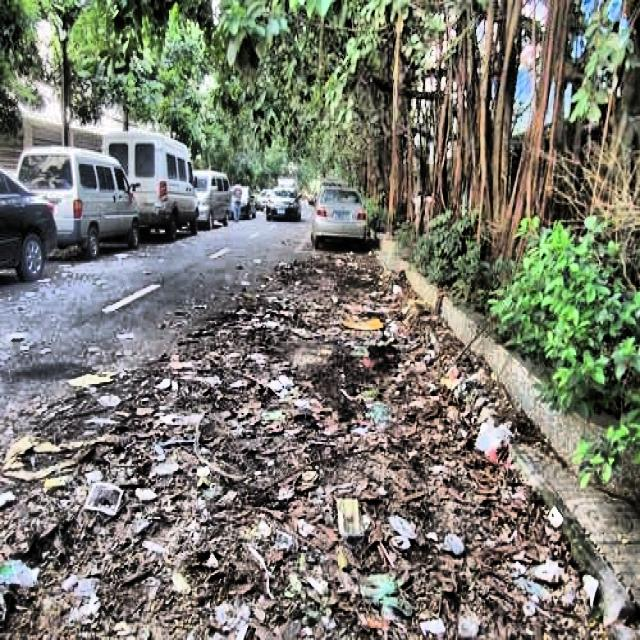garbage: (0, 403, 535, 638), (142, 227, 396, 422), (330, 283, 493, 461)
